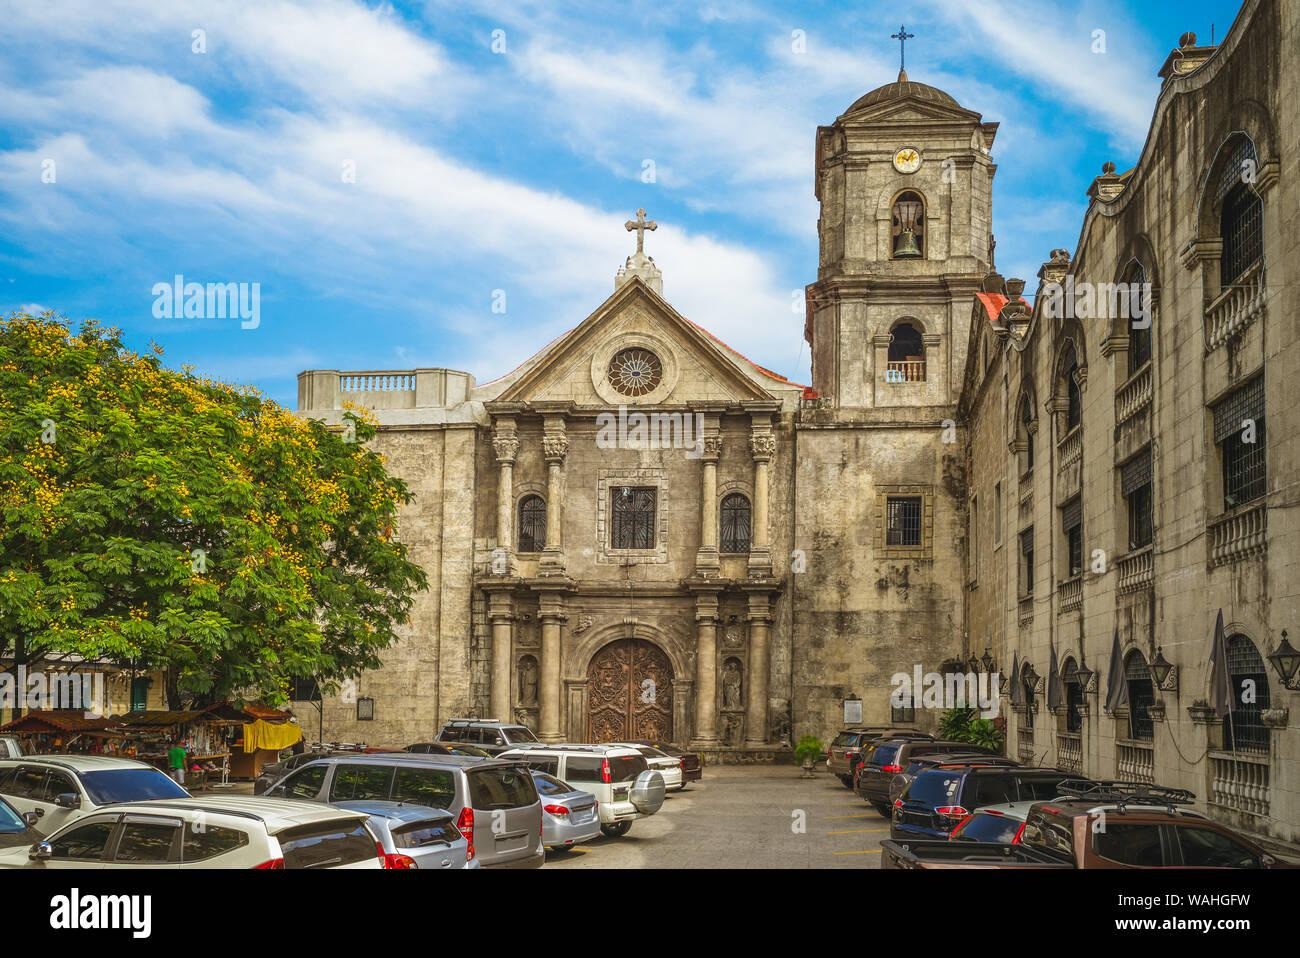Environmental Damage: (939, 453, 967, 506)
San Agustin Church: (470, 16, 990, 761)
